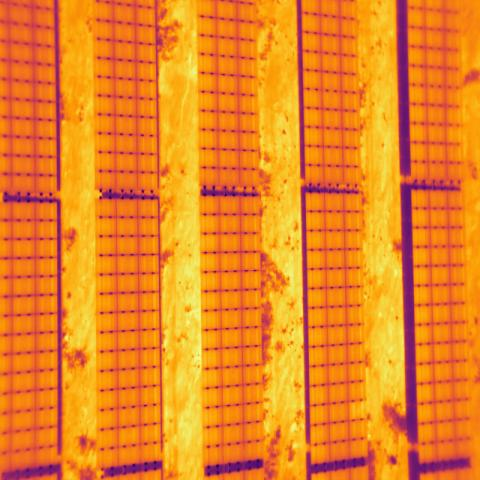fault: (348, 401, 366, 420)
